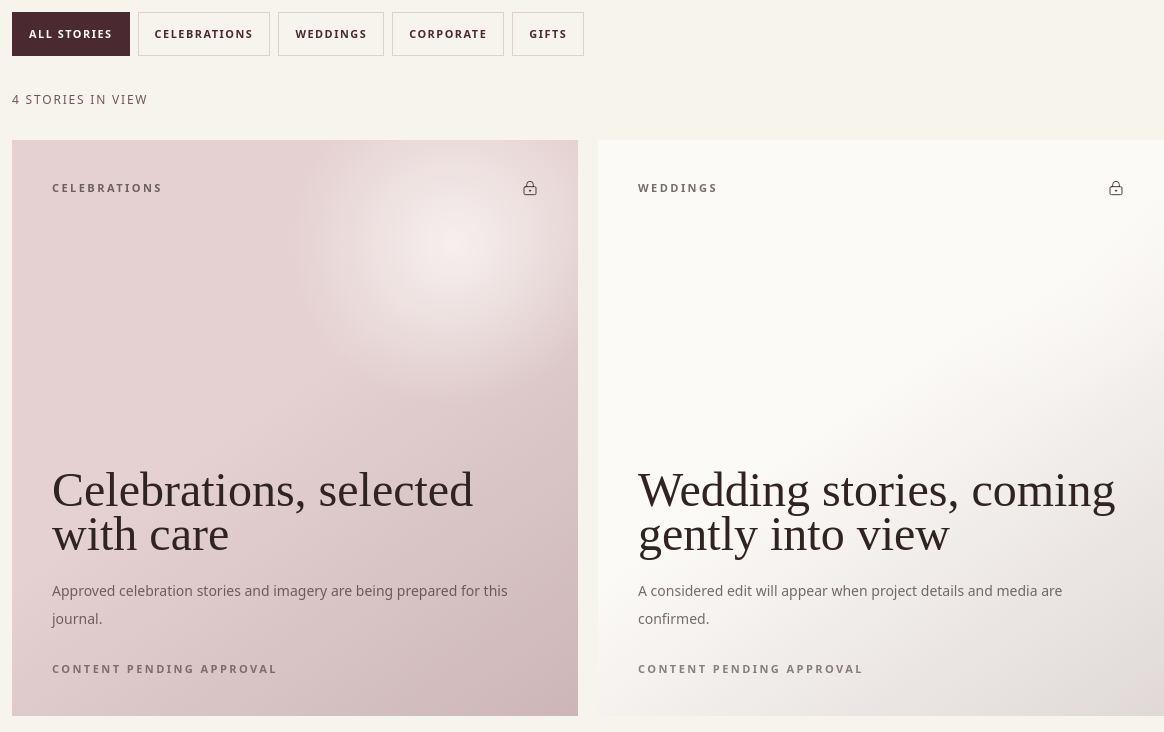
Scenario: PortfolioFilter › updates the visible editorial selection and announces the count
Click the button "Corporate". click: (448, 34)
box: [392,12,504,56]
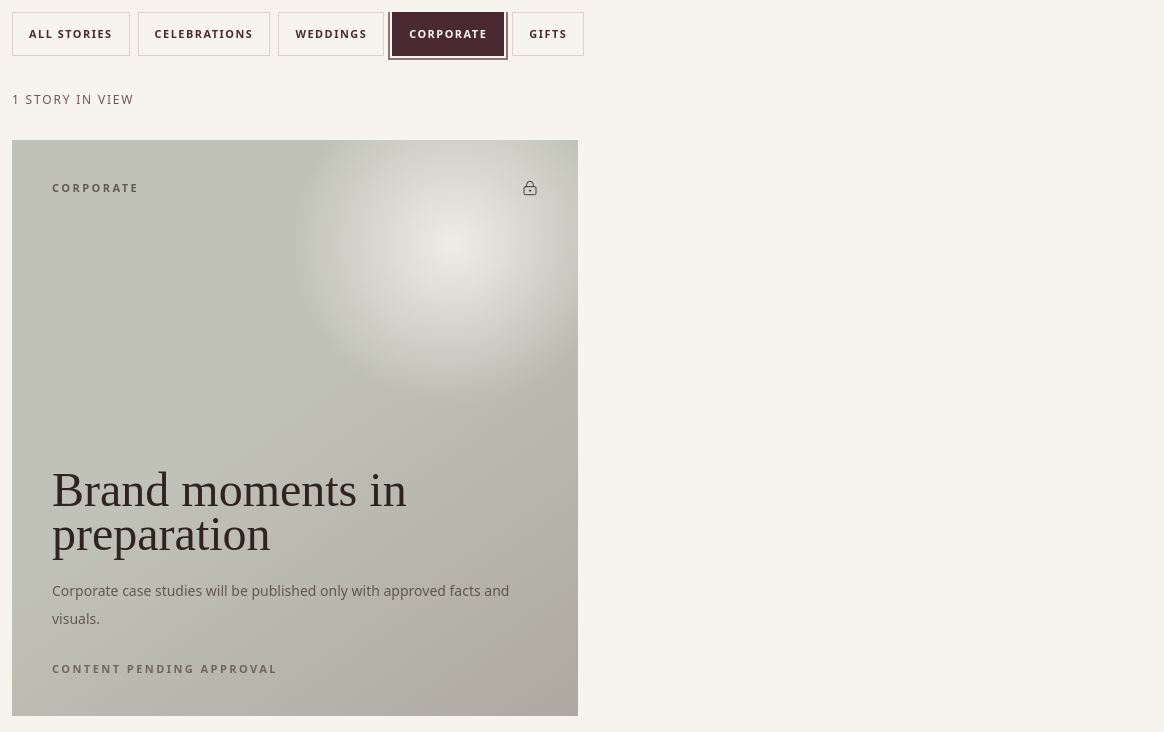
Result: the text "1 story in view" is shown at [12,91,134,108]
